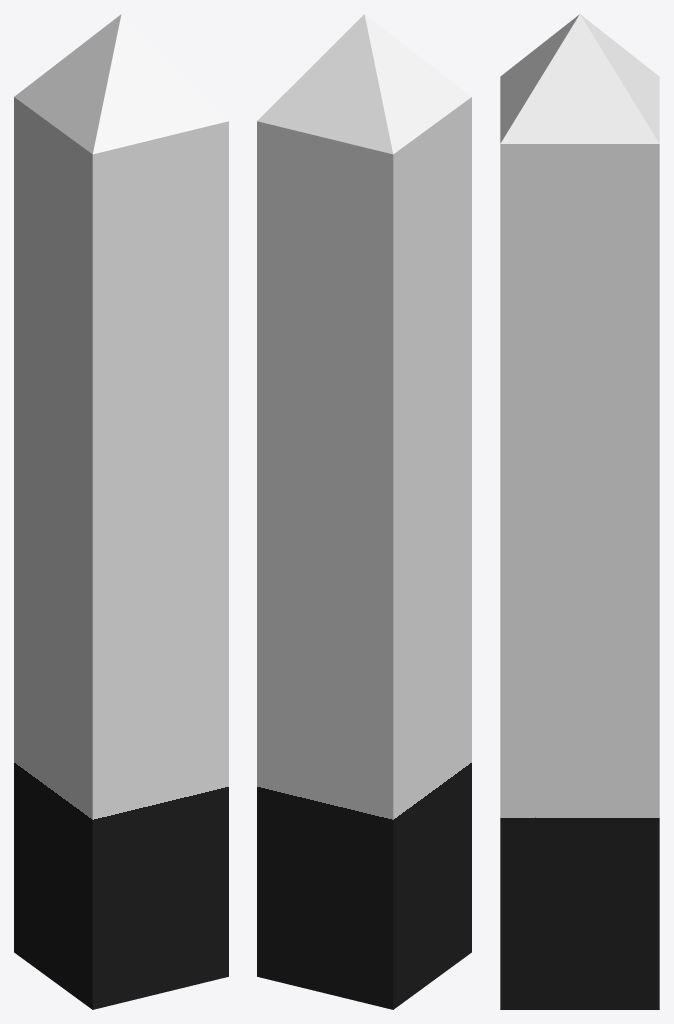
Rendered from gradient_post.obj.
The picture shows the model from 3 angles, left to right: view 1: azimuth 30°, elevation 25°; view 2: azimuth 150°, elevation 25°; view 3: azimuth 270°, elevation 25°; orthographic projection.
Parts seen in each view (by area): view 1: cylinder, pyramid; view 2: cylinder, pyramid; view 3: cylinder, pyramid.
Boxes of the visible parts, x1,y1,x2,y2 form: cylinder: [14, 97, 228, 1009]; pyramid: [14, 14, 228, 154]; cylinder: [257, 97, 471, 1009]; pyramid: [257, 14, 471, 154]; cylinder: [500, 144, 659, 1009]; pyramid: [500, 14, 659, 143].
Bounding box in the file's own units: 0.1875 × 1.25 × 0.1875.
